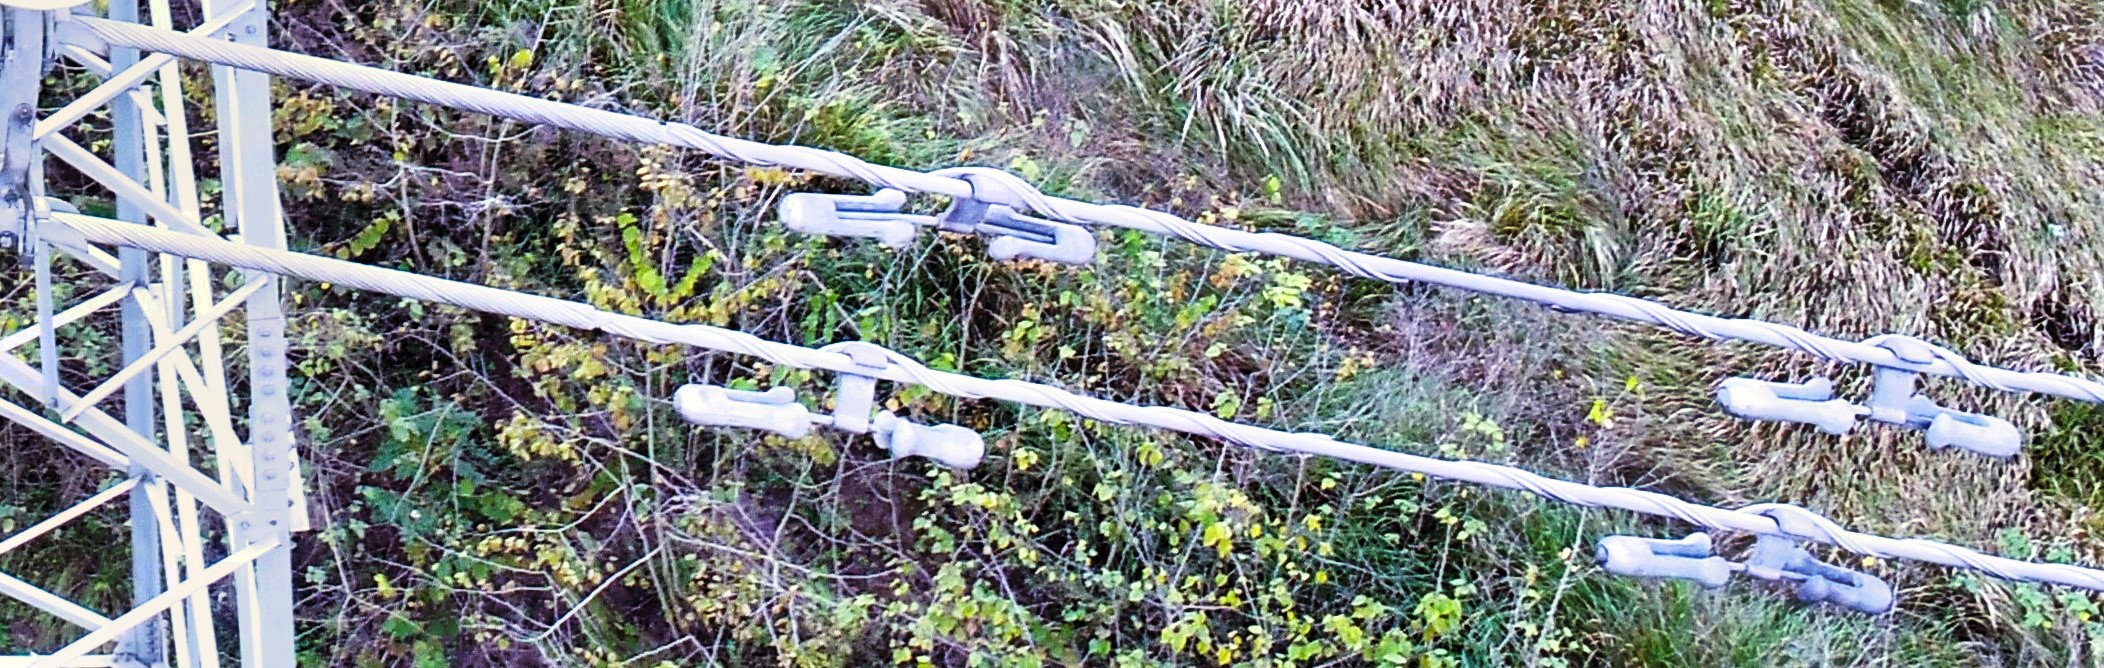Shockproof hammer: (670, 309, 992, 486), (1704, 303, 2036, 468), (769, 131, 1108, 286), (1589, 480, 1908, 621)
